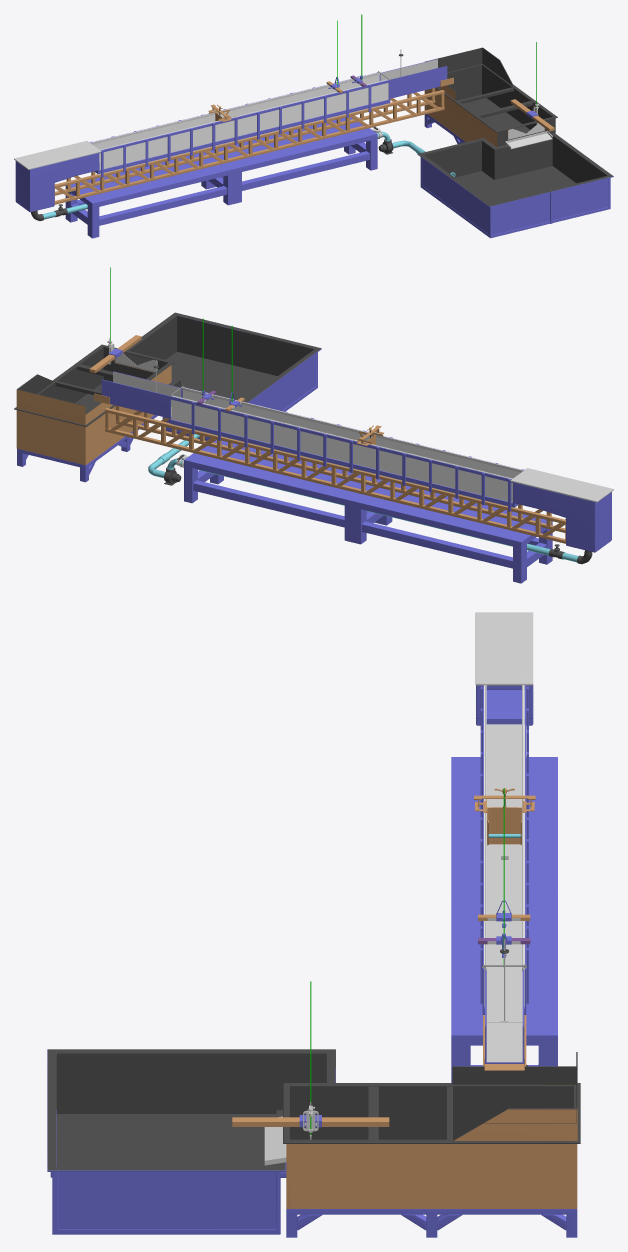
The model's file is Dam_FIX01.fbx.
3 views of the same model, one above another, from view 1: azimuth 30°, elevation 25°; view 2: azimuth 150°, elevation 25°; view 3: azimuth 270°, elevation 25° (orthographic). The views are drawn at different scales.
Parts seen in each view (by area): view 1: polySurface11, Glass, polySurface9, group11_pCube84, pCube124, pCube123, group2_pCube6, polySurface17, pCube4, polySurface16, pCube129, pCube84 (+1 smaller); view 2: polySurface11, Glass, polySurface9, group11_pCube84, pCube124, pCube123, group2_pCube6, polySurface17, pCube4, polySurface16, pCube130, pCylinder19 (+2 smaller); view 3: polySurface11, polySurface9, group2_pCube6, pCube123, pCube124, polySurface16, pCube141, pCube4, polySurface17, pCube106, Glass, pCube134 (+1 smaller).
Part boxes in pixels (x1,y1,x2,y2): polySurface11: [417, 133, 613, 238]; Glass: [90, 72, 388, 174]; polySurface9: [424, 47, 557, 146]; group11_pCube84: [54, 88, 444, 204]; pCube124: [65, 150, 234, 238]; pCube123: [210, 117, 377, 203]; group2_pCube6: [89, 72, 390, 177]; polySurface17: [15, 153, 99, 212]; pCube4: [380, 59, 447, 98]; polySurface16: [14, 141, 101, 169]; pCube129: [91, 72, 379, 144]; pCube84: [505, 131, 552, 149]; polySurface11: [123, 312, 321, 440]; Glass: [171, 387, 522, 507]; polySurface9: [14, 344, 174, 465]; group11_pCube84: [105, 405, 565, 543]; pCube124: [352, 479, 552, 583]; pCube123: [184, 440, 381, 542]; group2_pCube6: [169, 387, 524, 511]; polySurface17: [513, 482, 611, 552]; pCube4: [101, 371, 181, 418]; polySurface16: [510, 468, 613, 502]; pCube130: [182, 387, 523, 472]; pCylinder19: [167, 458, 578, 562]; polySurface11: [47, 1049, 335, 1234]; polySurface9: [283, 1052, 580, 1208]; group2_pCube6: [480, 685, 528, 1014]; pCube123: [451, 896, 557, 1082]; pCube124: [451, 757, 557, 895]; polySurface16: [475, 612, 533, 685]; pCube141: [286, 1209, 577, 1237]; pCube4: [485, 970, 524, 1063]; polySurface17: [476, 685, 533, 725]; pCube106: [232, 1117, 389, 1126]; Glass: [484, 685, 524, 1015]; pCube134: [487, 807, 521, 844].
Size of the model in its own units: 993 by 287 by 476.
